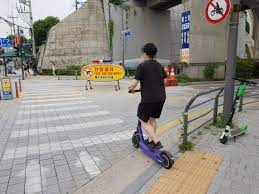nonhelmet: (127, 41, 176, 171)
